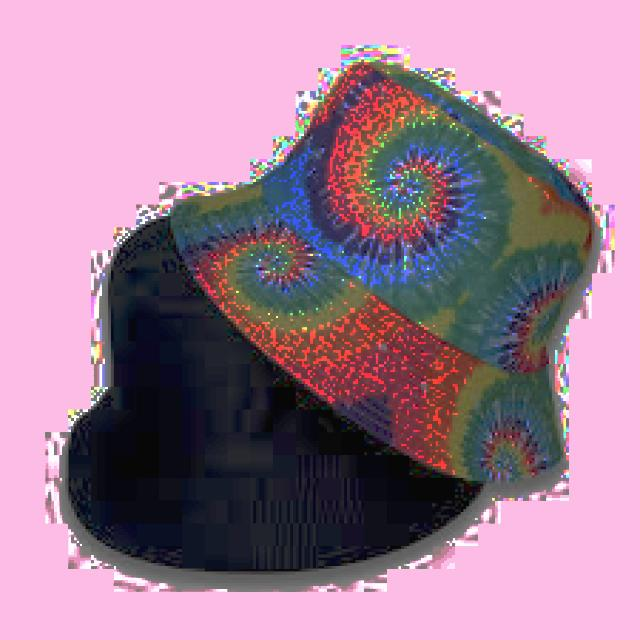TOPI: (165, 46, 612, 489), (60, 193, 512, 578)
